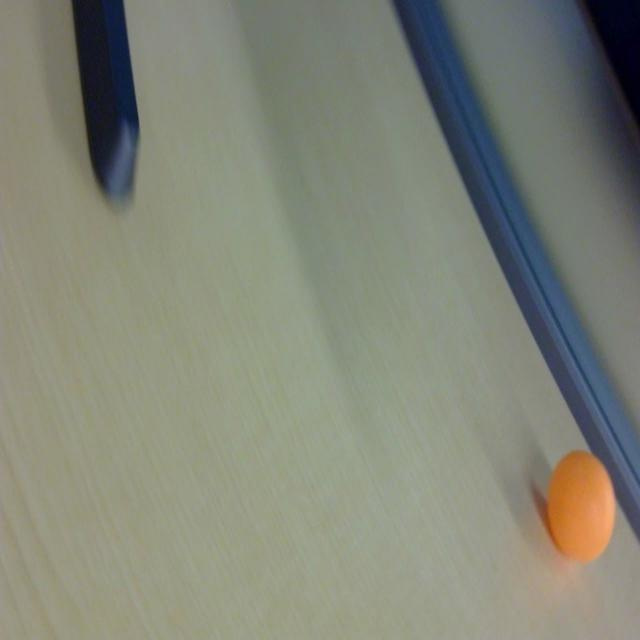ball: (546, 448, 616, 565)
